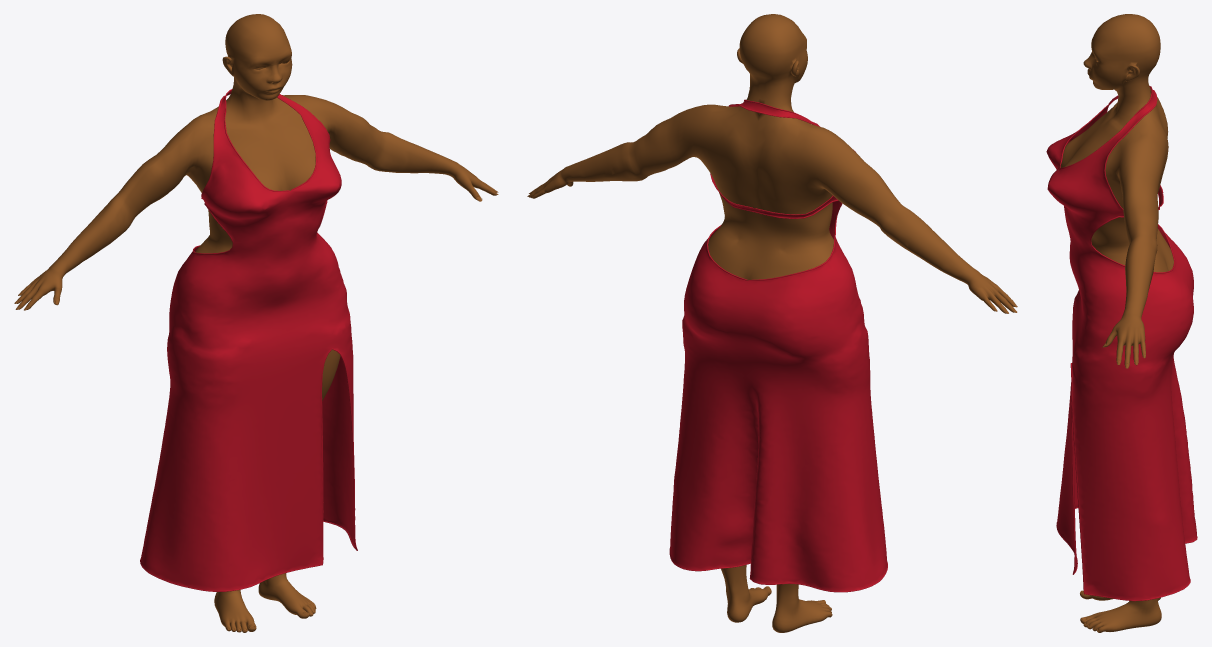
File: dress3.glb
3 renders of one model, left to right at view 1: azimuth 30°, elevation 25°; view 2: azimuth 150°, elevation 25°; view 3: azimuth 270°, elevation 25°, orthographic.
Parts seen in each view (by area): view 1: EveningDress, Body; view 2: EveningDress, Body; view 3: EveningDress, Body.
Part boxes in pixels (x1=…): EveningDress: x1=140, y1=89, x2=357, y2=591; Body: x1=17, y1=14, x2=497, y2=632; EveningDress: x1=669, y1=99, x2=887, y2=592; Body: x1=529, y1=14, x2=1014, y2=632; EveningDress: x1=1046, y1=86, x2=1197, y2=601; Body: x1=1060, y1=14, x2=1173, y2=632.
Bounding box in the file's own units: 1.58 × 1.85 × 0.4261.
